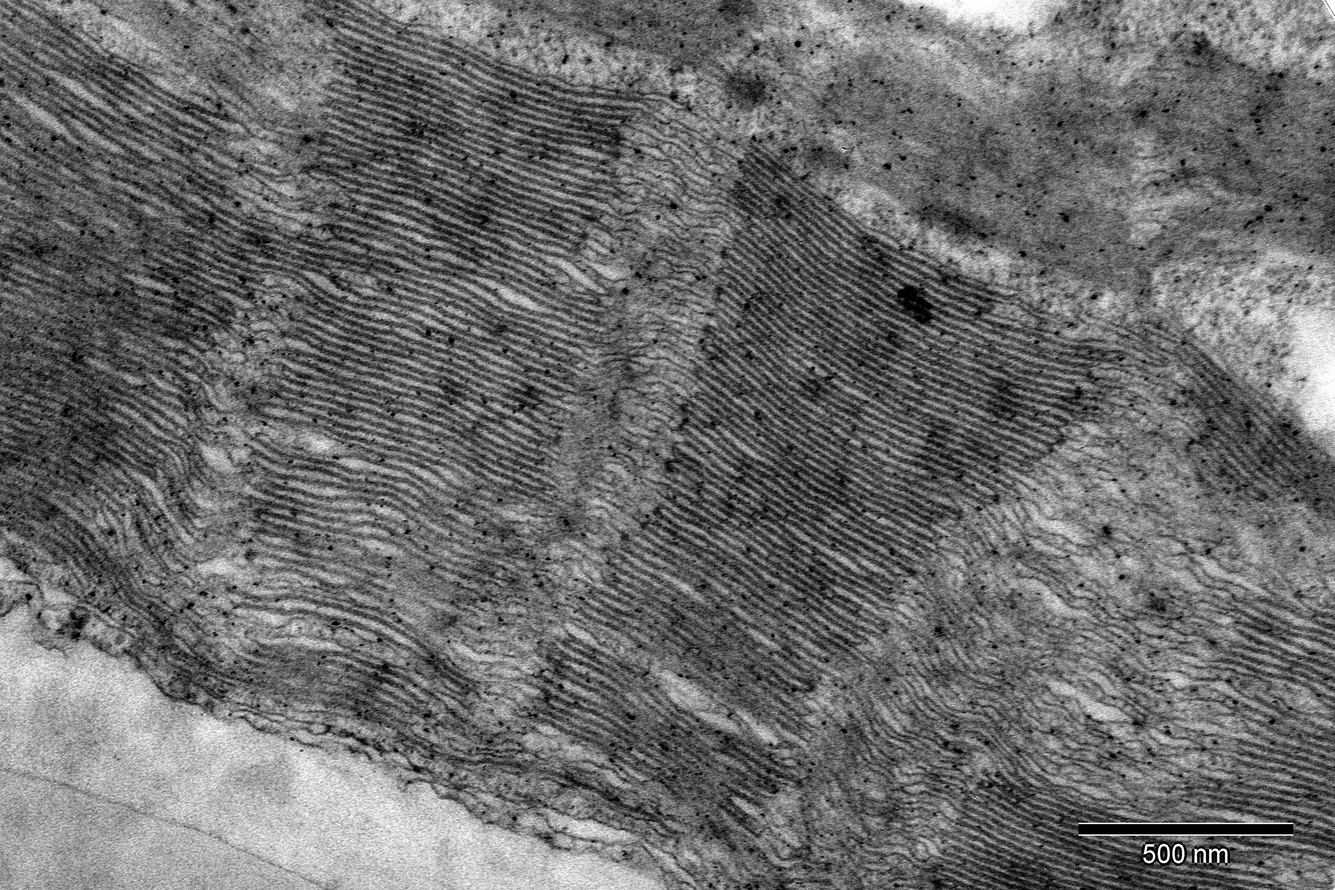granum: (568, 127, 1134, 753), (242, 0, 646, 521), (0, 0, 310, 610), (803, 0, 1157, 305), (237, 430, 565, 664), (900, 743, 1281, 890), (531, 624, 799, 832), (1125, 26, 1334, 274), (1156, 321, 1332, 554), (472, 0, 789, 99), (1174, 529, 1335, 716), (1173, 684, 1335, 864), (225, 631, 455, 756)
